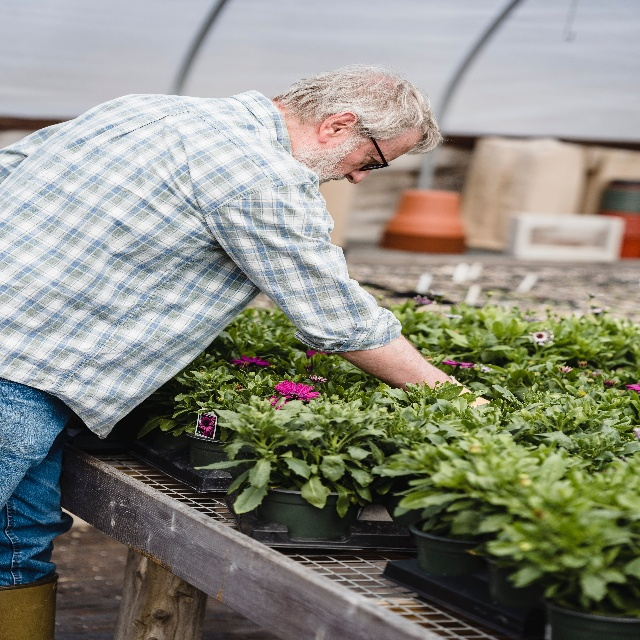Gafas: (357, 115, 389, 173)
